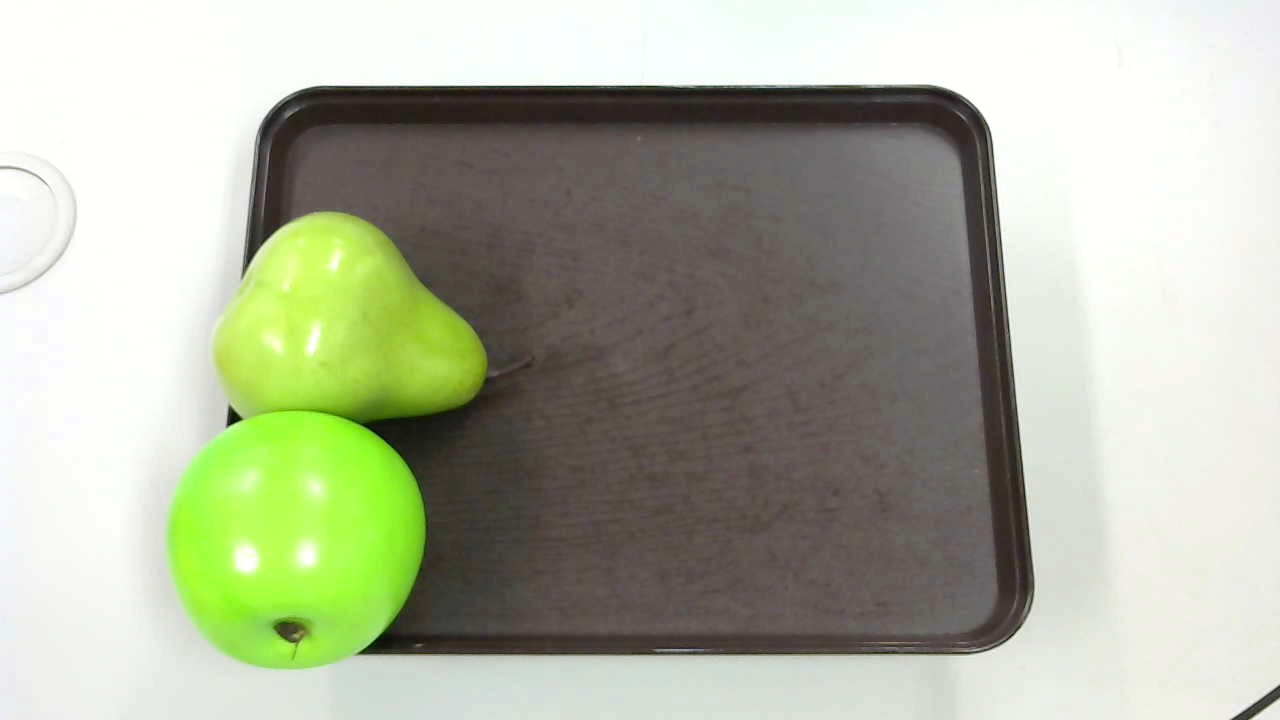green apple: (177, 409, 423, 679)
green pear: (214, 200, 540, 435)
